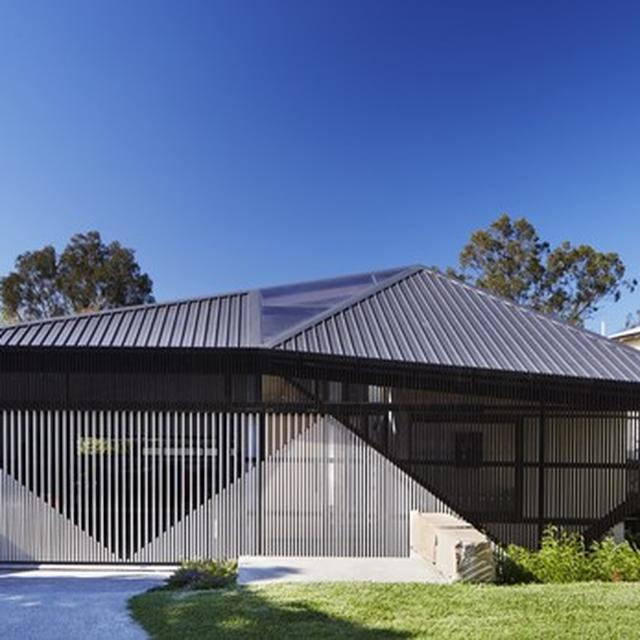building: (18, 262, 640, 620)
